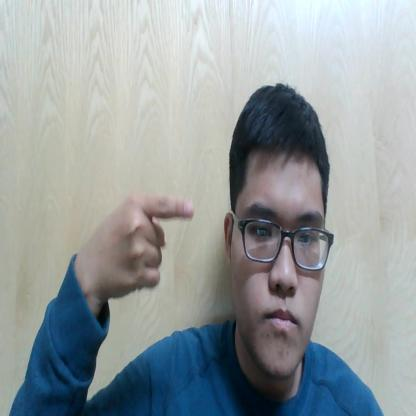left: (80, 180, 199, 309)
